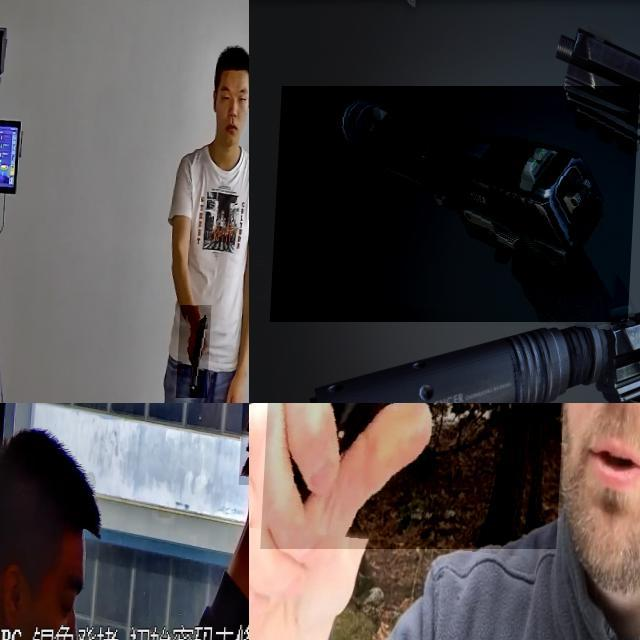-: (265, 403, 580, 632)
gun-knife-thesis - v11 Yolov5 augmented: (274, 86, 640, 321), (307, 258, 640, 403), (544, 22, 640, 291), (180, 305, 216, 398)
